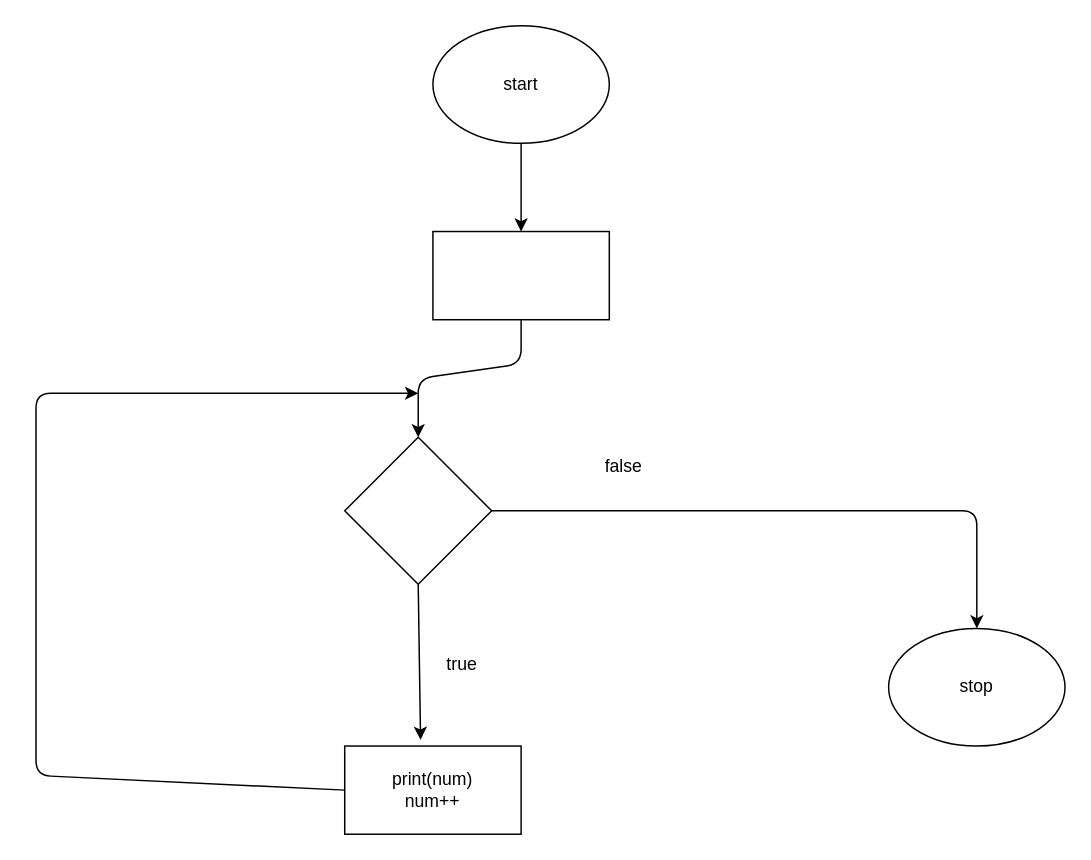
Image size: 1091x860. Some labels were removed from this diagram. Here are the shapes that lost their labels. From the top down, the centre of each, then its label:
At point (520, 275): "num=1".
At point (417, 510): "while num<=10".
